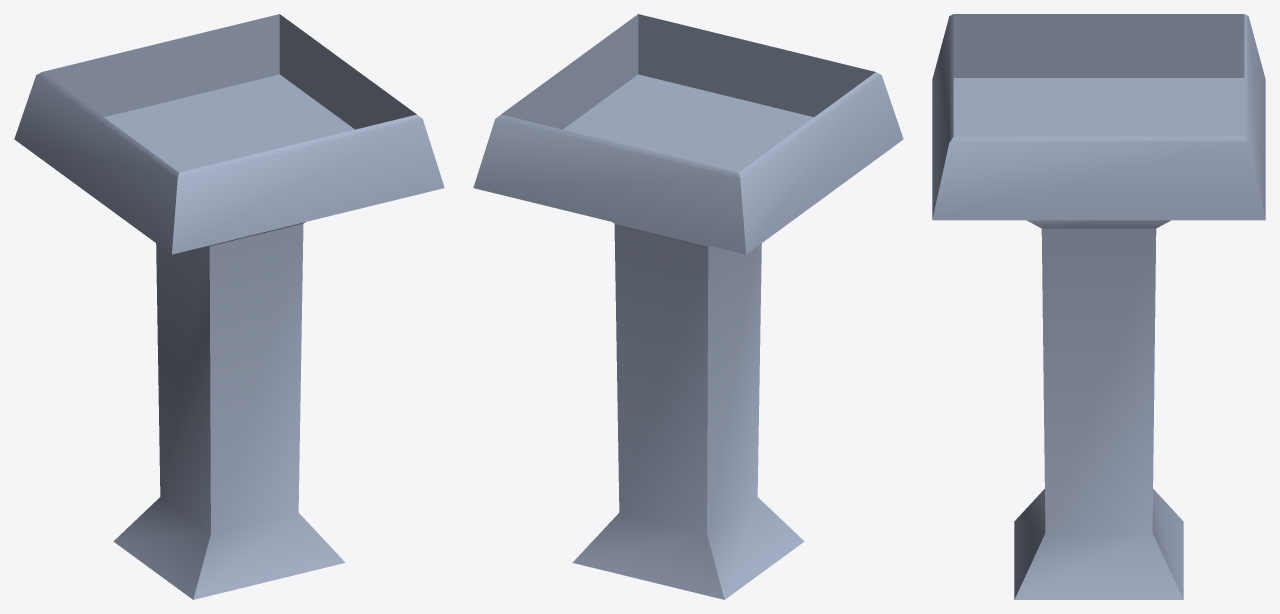
Rendered from Sink.fbx.
3 renders of one model, left to right at view 1: azimuth 30°, elevation 25°; view 2: azimuth 150°, elevation 25°; view 3: azimuth 270°, elevation 25°, orthographic. The views are drawn at different scales.
Visible parts, largest first — view 1: Cube; view 2: Cube; view 3: Cube.
Boxes of the visible parts, bbox=[...] form: Cube: bbox=[14, 14, 444, 599]; Cube: bbox=[473, 14, 903, 599]; Cube: bbox=[932, 14, 1265, 599].
Size of the model in its own units: 126 by 202 by 126.
